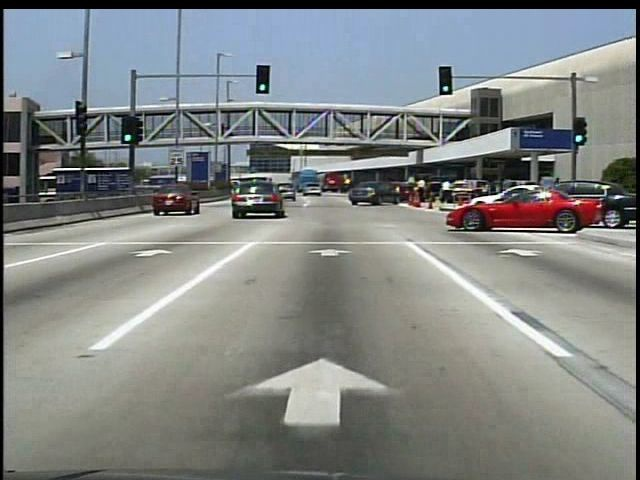person: (414, 175, 430, 210), (479, 182, 494, 217), (439, 180, 455, 207), (219, 125, 228, 141)
